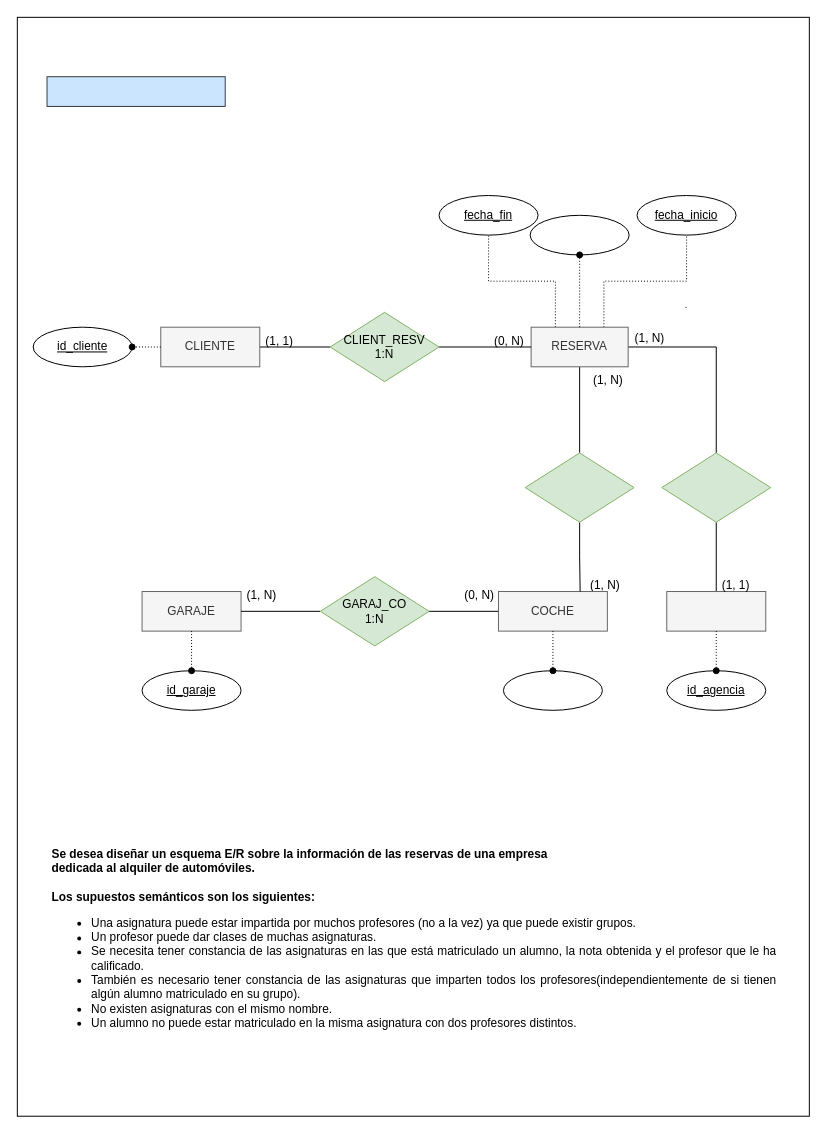
Image size: 827x1134. Some labels were removed from this diagram. Each missing label, with the centre of its shape:
"AGENCIA" goes at [716,611].
"EJER. 17 - AUTOMÓVILES" goes at [135,91].
"id_coche" goes at [552,690].
"id_reserva" goes at [579,234].
"RESV_AGEN N:1" goes at [716,487].
"RESV_AGEN N:N" goes at [579,487].
